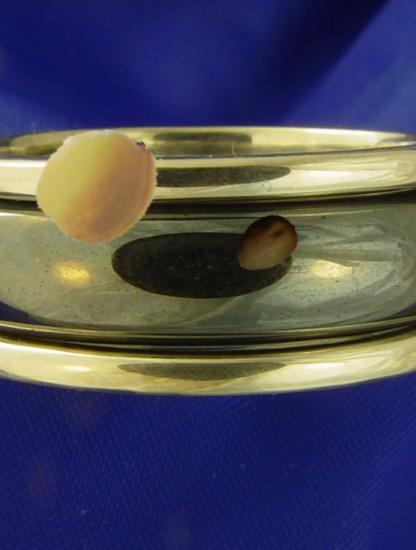Papaya: (232, 210, 300, 278)
Peach: (35, 123, 160, 248)
